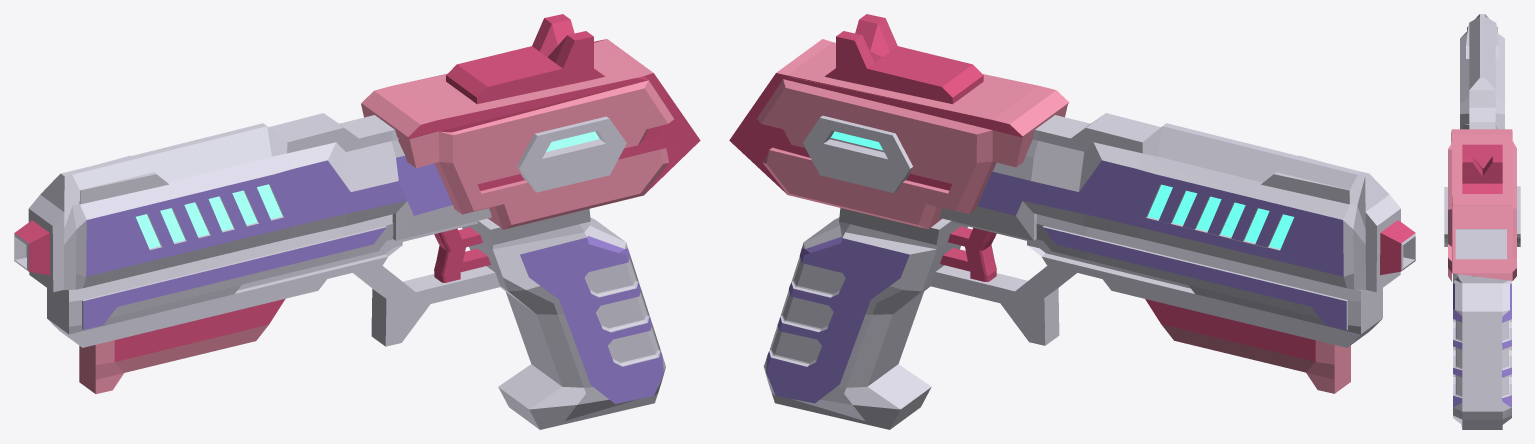
File: dream_gun_0426.fbx
The picture shows the model from 3 angles, left to right: view 1: azimuth 30°, elevation 25°; view 2: azimuth 150°, elevation 25°; view 3: azimuth 270°, elevation 25°; orthographic projection. The views are drawn at different scales.
Visible parts, largest first — view 1: Cube, Cube.001, Cube.002, Cube.006, Cube.003, Cube.005; view 2: Cube, Cube.001, Cube.002, Cube.003, Cube.006, Cube.005; view 3: Cube, Cube.001, Cube.003.
Boxes of the visible parts, x1,y1,x2,y2 form: Cube: (14,39,700,346); Cube.001: (462,209,665,429); Cube.002: (47,214,402,347); Cube.006: (79,298,285,393); Cube.003: (446,14,604,104); Cube.005: (434,227,490,282); Cube: (729,39,1415,345); Cube.001: (763,208,967,429); Cube.002: (1027,214,1382,347); Cube.003: (825,14,983,104); Cube.006: (1145,299,1350,393); Cube.005: (940,226,996,281); Cube: (1444,14,1520,281); Cube.001: (1453,273,1511,429); Cube.003: (1462,144,1502,193).
Bounding box in the file's own units: 0.6255 × 0.3476 × 0.0971.
